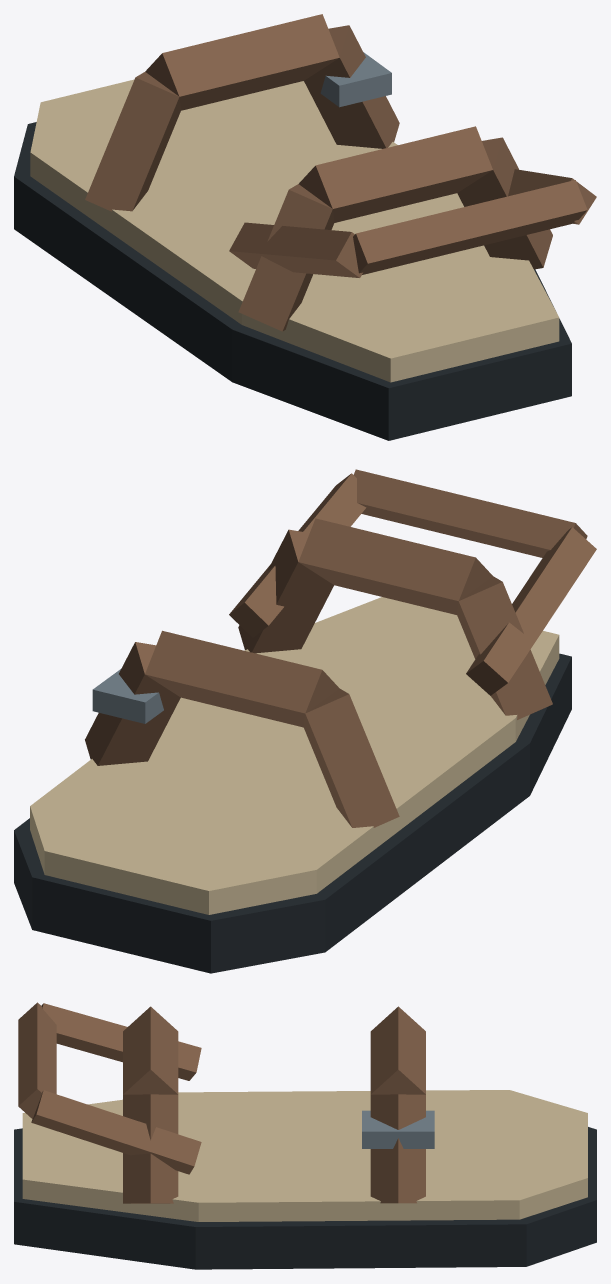
Rendered from b17_trail_sandal.glb.
3 renders of one model, top to bottom at view 1: azimuth 30°, elevation 25°; view 2: azimuth 150°, elevation 25°; view 3: azimuth 270°, elevation 25°, orthographic. The views are drawn at different scales.
Visible parts, largest first — view 1: b17_trail_sandal; view 2: b17_trail_sandal; view 3: b17_trail_sandal.
Boxes of the visible parts, box(x1,y1,x2,y2) form: b17_trail_sandal: box(14, 14, 596, 440); b17_trail_sandal: box(14, 469, 596, 973); b17_trail_sandal: box(14, 1002, 596, 1269).
Bounding box in the file's own units: 0.1375 × 0.088 × 0.273.
